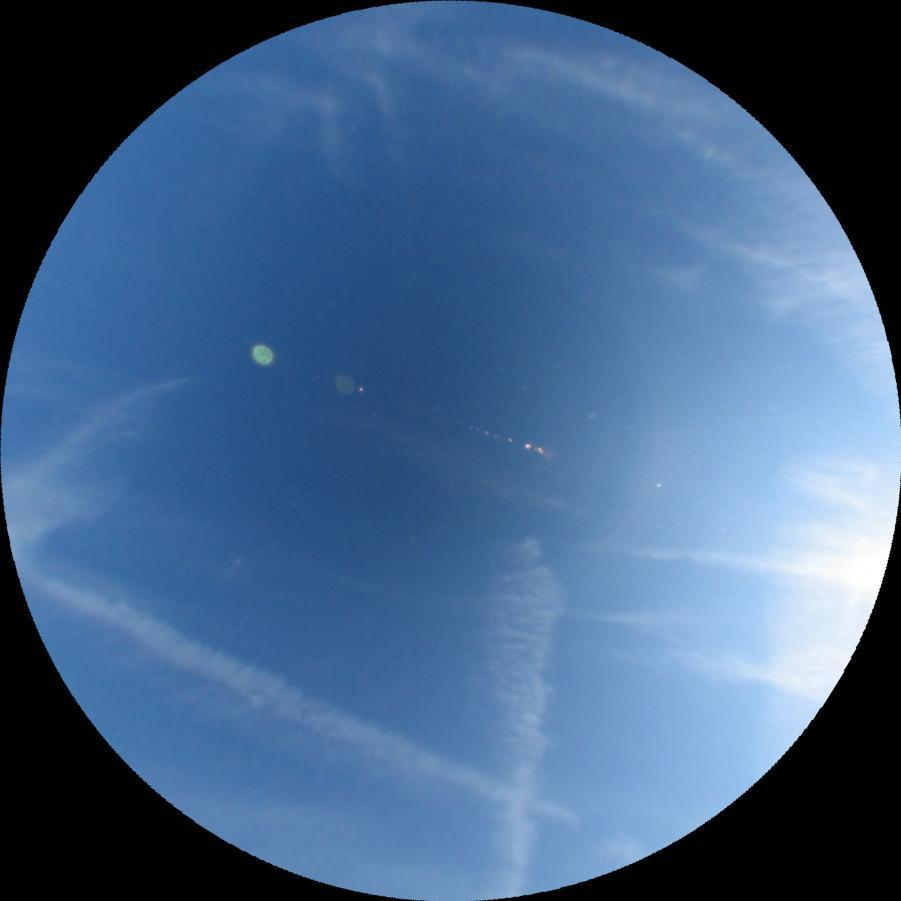contrail veryold: (5, 553, 581, 846), (479, 532, 573, 900)
